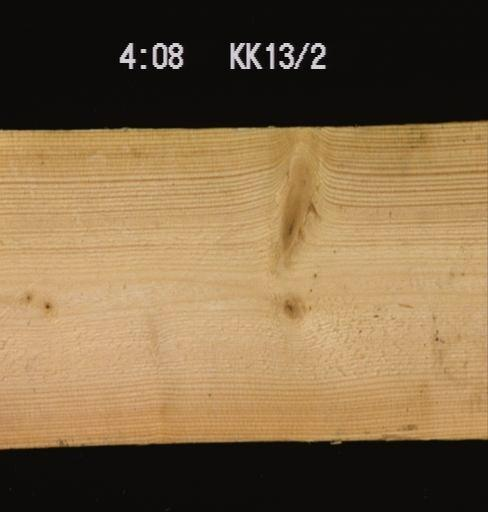small_knot: (41, 299, 53, 311), (21, 290, 32, 303)
sound_knot: (277, 291, 305, 322)
